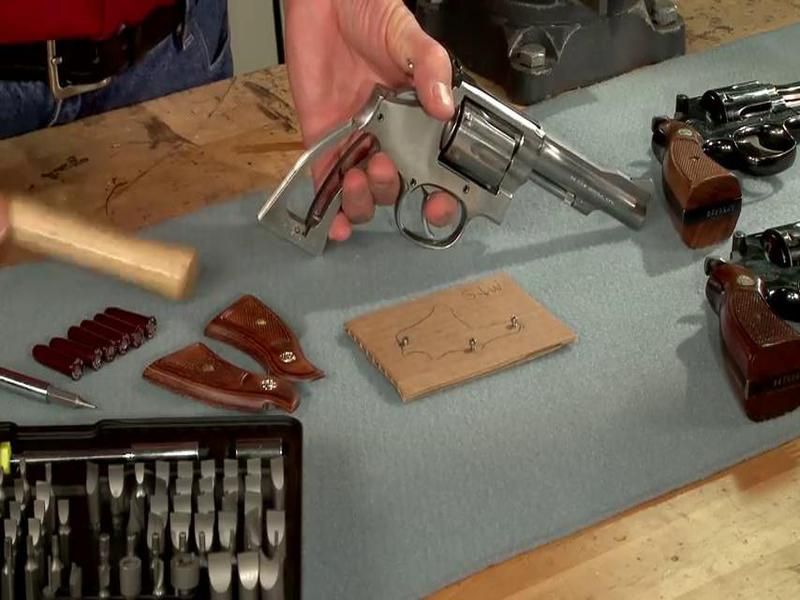Revolver: (241, 43, 657, 312)
